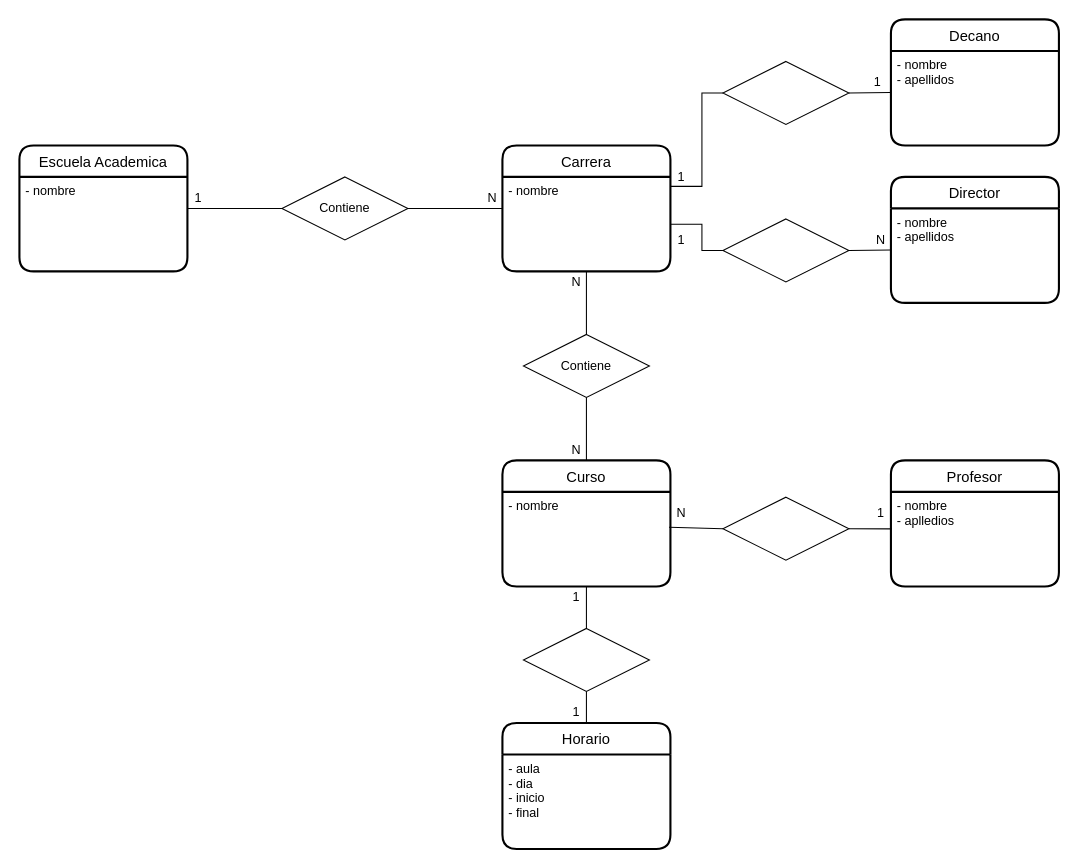
This 1077x867 diagram has some shape labels left out. Each missing label, with the centre of its shape:
Esta a cargo de: point 785,92
Se administra por: point 785,250
Se imparte en: point 585,659
Se imparte por: point 785,528
